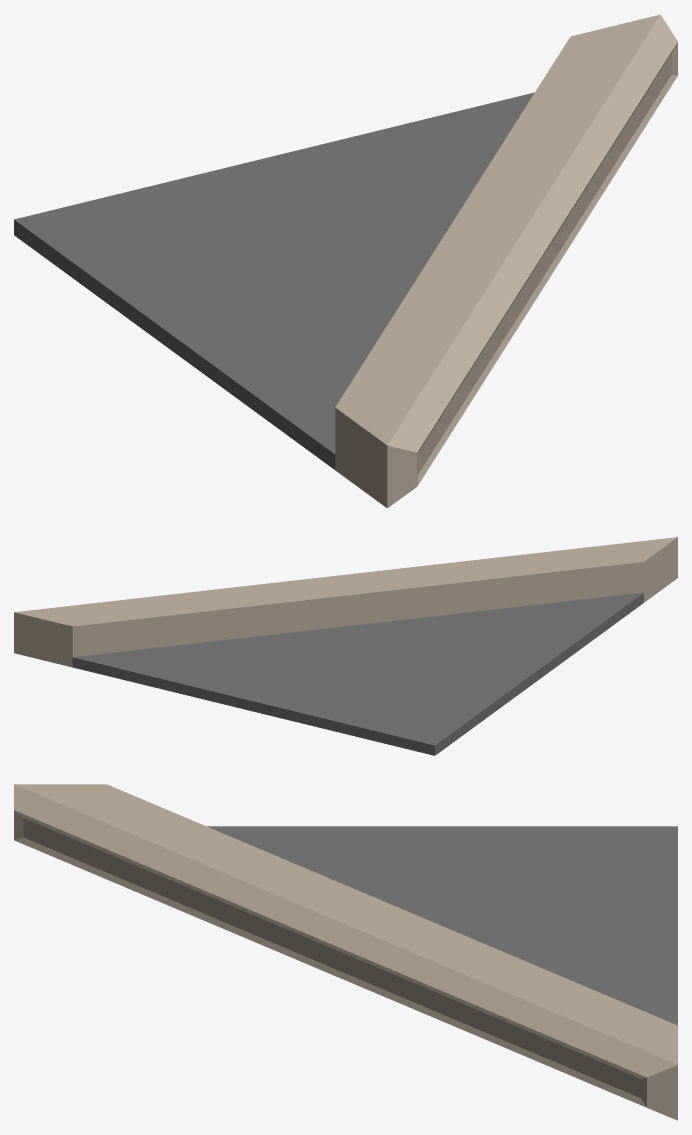
The model's file is roof_4x4_diagonal.fbx.
3 views of the same model, one above another, from view 1: azimuth 30°, elevation 25°; view 2: azimuth 150°, elevation 25°; view 3: azimuth 270°, elevation 25° (orthographic). The views are drawn at different scales.
Visible parts, largest first — view 1: Cube; view 2: Cube; view 3: Cube.
Boxes of the visible parts, bbox=[...] form: Cube: bbox=[14, 14, 677, 508]; Cube: bbox=[14, 537, 677, 755]; Cube: bbox=[14, 784, 677, 1120].
Size of the model in its own units: 430 by 40 by 430.
